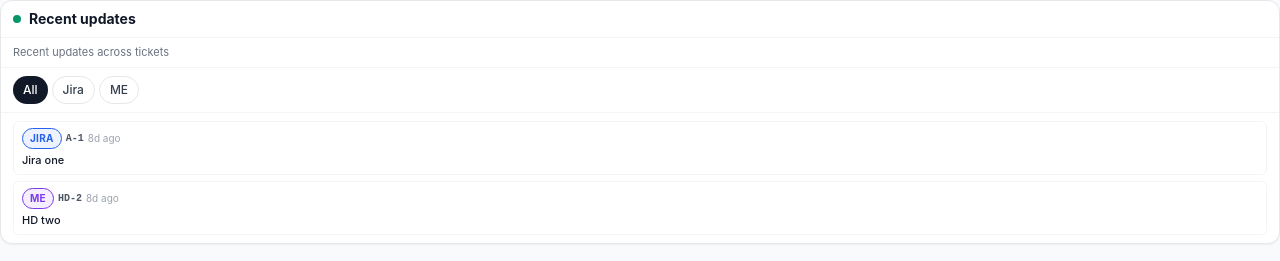
Test case: ActivitySidebar › filters feed entries by source pills
This screenshot has width=1280, height=261.
Expected: the text "Jira one" is shown, x1=22 y1=152 x2=64 y2=166
Expected: the text "HD two" is shown, x1=22 y1=213 x2=61 y2=227
What coordinates should you click on to do the following:
click the button "Jira"
I would click on:
 (73, 90)
Its box is x1=52 y1=76 x2=95 y2=104.
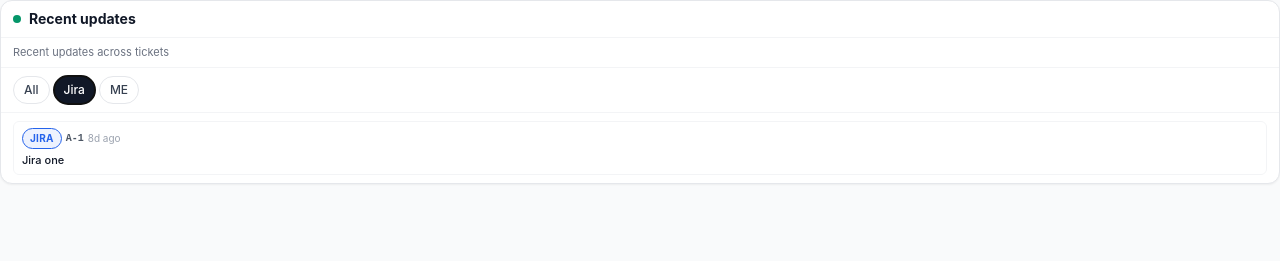
Expected: the text "Jira one" is shown, x1=22 y1=152 x2=64 y2=166
Now the button "HD two" is gone
